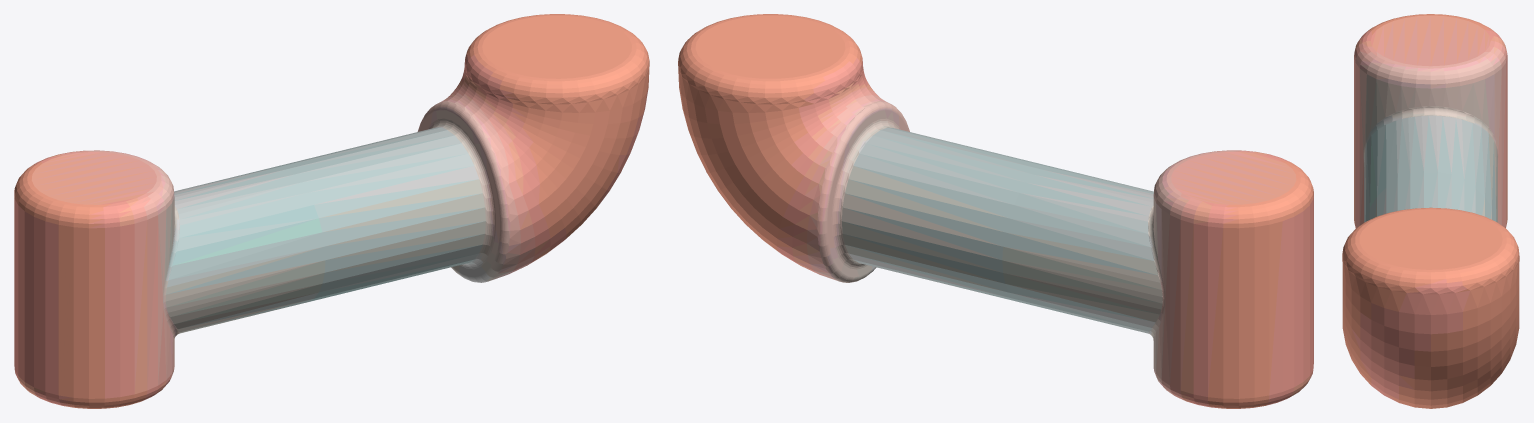
File: UnitreeZ1Link3.dae
The picture shows the model from 3 angles, left to right: view 1: azimuth 30°, elevation 25°; view 2: azimuth 150°, elevation 25°; view 3: azimuth 270°, elevation 25°; orthographic projection. The views are drawn at different scales.
Visible parts, largest first — view 1: UnitreeZ1Link3; view 2: UnitreeZ1Link3; view 3: UnitreeZ1Link3.
Part boxes in pixels (x1,y1,x2,y2): UnitreeZ1Link3: [14, 14, 649, 408]; UnitreeZ1Link3: [678, 14, 1313, 408]; UnitreeZ1Link3: [1342, 14, 1519, 408].
Bounding box in the file's own units: 0.2818 × 0.0738 × 0.097.
